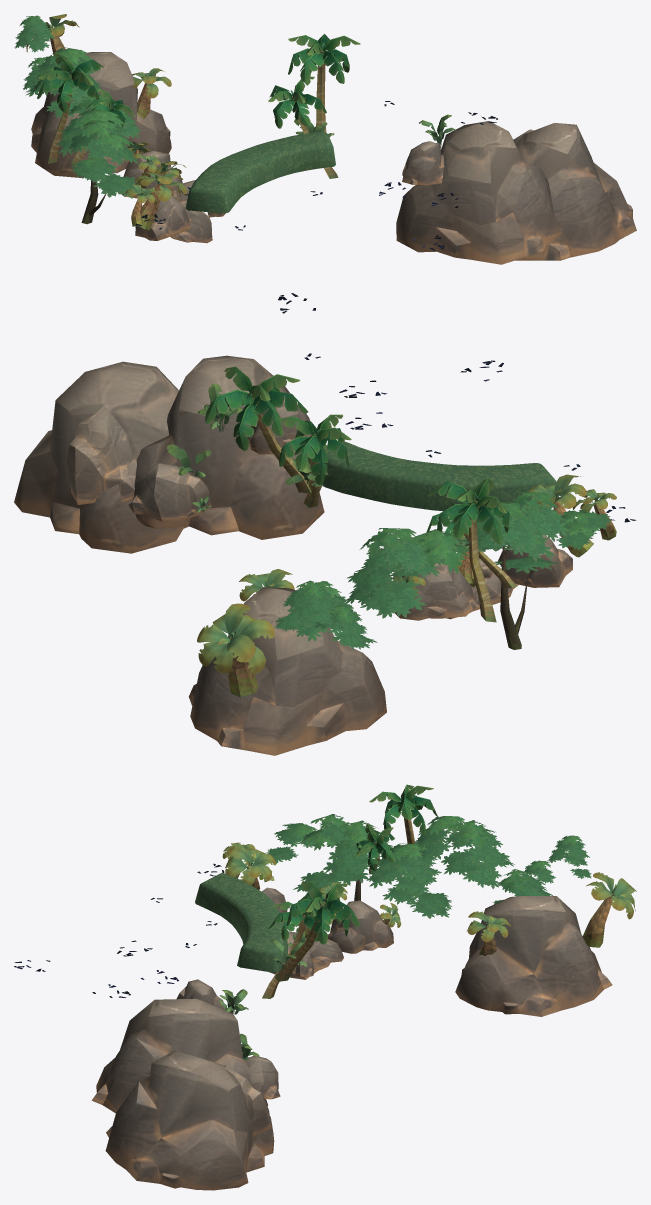
Rendered from pref_sm_4v4pointbake_WSJ_CSD_L02_lv1.fbx.
3 renders of one model, top to bottom at view 1: azimuth 30°, elevation 25°; view 2: azimuth 150°, elevation 25°; view 3: azimuth 270°, elevation 25°, orthographic. The views are drawn at different scales.
Parts seen in each view (by area): view 1: sm_4v4pointbake_WSJ_CSD_L02_b_lv1, sm_4v4pointbake_WSJ_CSD_L02_c_lv1, sm_4v4pointbake_WSJ_CSD_L02_d_lv1, sm_4v4pointbake_WSJ_CSD_L02_a_lv1; view 2: sm_4v4pointbake_WSJ_CSD_L02_b_lv1, sm_4v4pointbake_WSJ_CSD_L02_c_lv1, sm_4v4pointbake_WSJ_CSD_L02_d_lv1, sm_4v4pointbake_WSJ_CSD_L02_a_lv1; view 3: sm_4v4pointbake_WSJ_CSD_L02_b_lv1, sm_4v4pointbake_WSJ_CSD_L02_c_lv1, sm_4v4pointbake_WSJ_CSD_L02_d_lv1.
Part boxes in pixels (<box>): sm_4v4pointbake_WSJ_CSD_L02_b_lv1: <box>31,52,636,264</box>; sm_4v4pointbake_WSJ_CSD_L02_c_lv1: <box>14,14,455,230</box>; sm_4v4pointbake_WSJ_CSD_L02_d_lv1: <box>185,131,335,213</box>; sm_4v4pointbake_WSJ_CSD_L02_a_lv1: <box>135,101,497,250</box>; sm_4v4pointbake_WSJ_CSD_L02_b_lv1: <box>14,355,572,755</box>; sm_4v4pointbake_WSJ_CSD_L02_c_lv1: <box>166,366,616,697</box>; sm_4v4pointbake_WSJ_CSD_L02_d_lv1: <box>320,441,559,511</box>; sm_4v4pointbake_WSJ_CSD_L02_a_lv1: <box>278,293,636,522</box>; sm_4v4pointbake_WSJ_CSD_L02_b_lv1: <box>92,887,612,1190</box>; sm_4v4pointbake_WSJ_CSD_L02_c_lv1: <box>219,784,636,1060</box>; sm_4v4pointbake_WSJ_CSD_L02_d_lv1: <box>195,873,288,972</box>.
Size of the model in its own units: 28.04 by 10.14 by 30.08.
